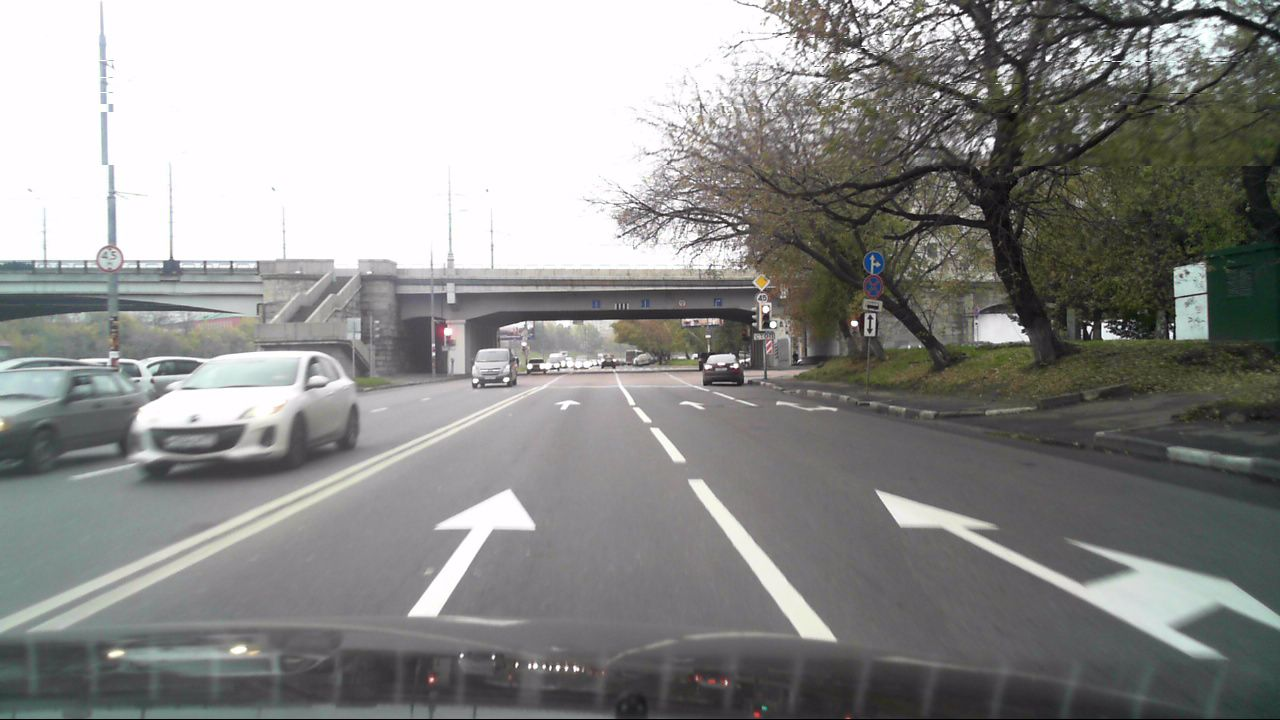No Parking: (861, 274, 885, 297)
